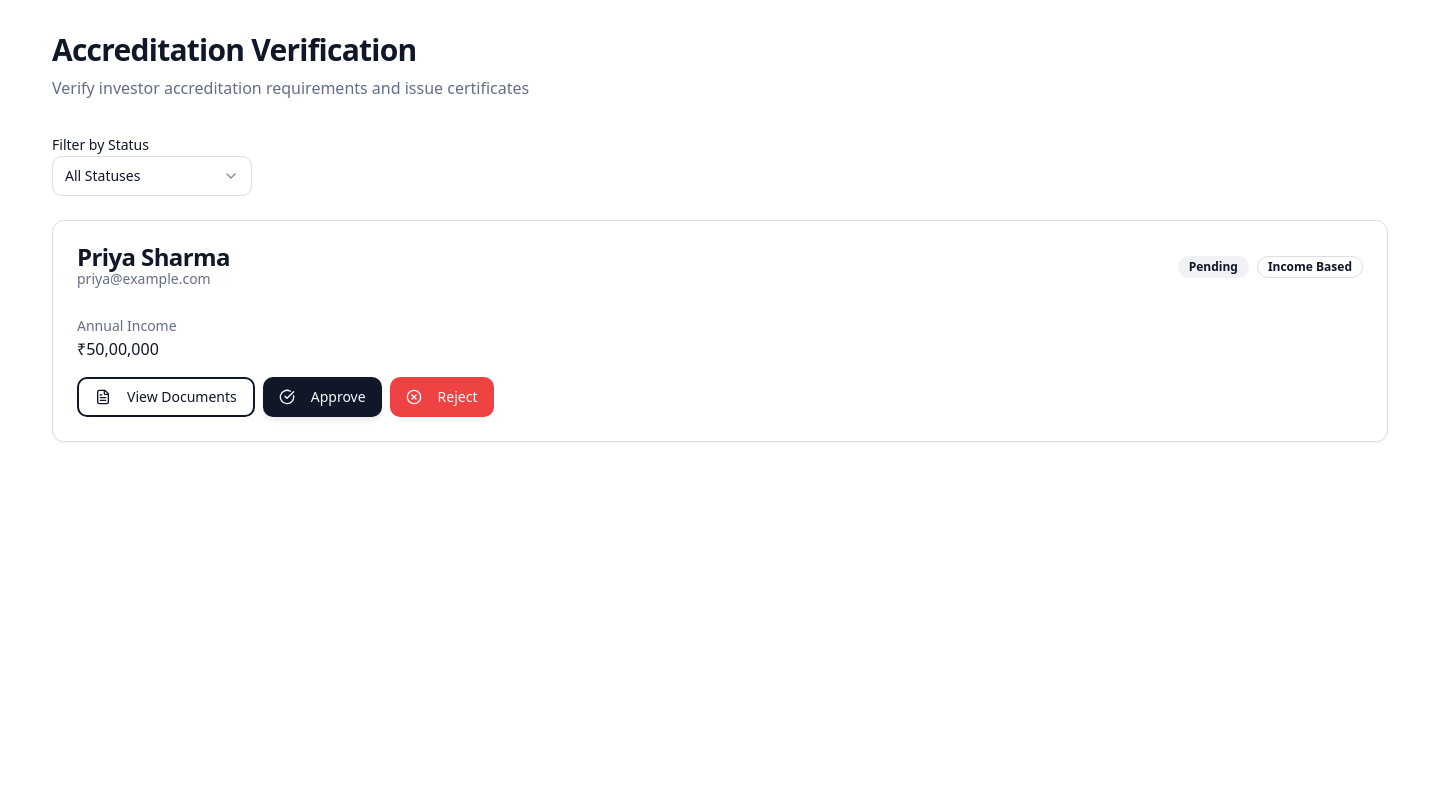
US-COMPLIANCE-003: Verify Accredited Investor Status › View Documents › should allow viewing application documents
Expected: the text "Priya Sharma" is shown, [77,245,230,269]
// Click the View Documents button
Click the button "View Documents" at (166, 397), box [77,377,255,417]
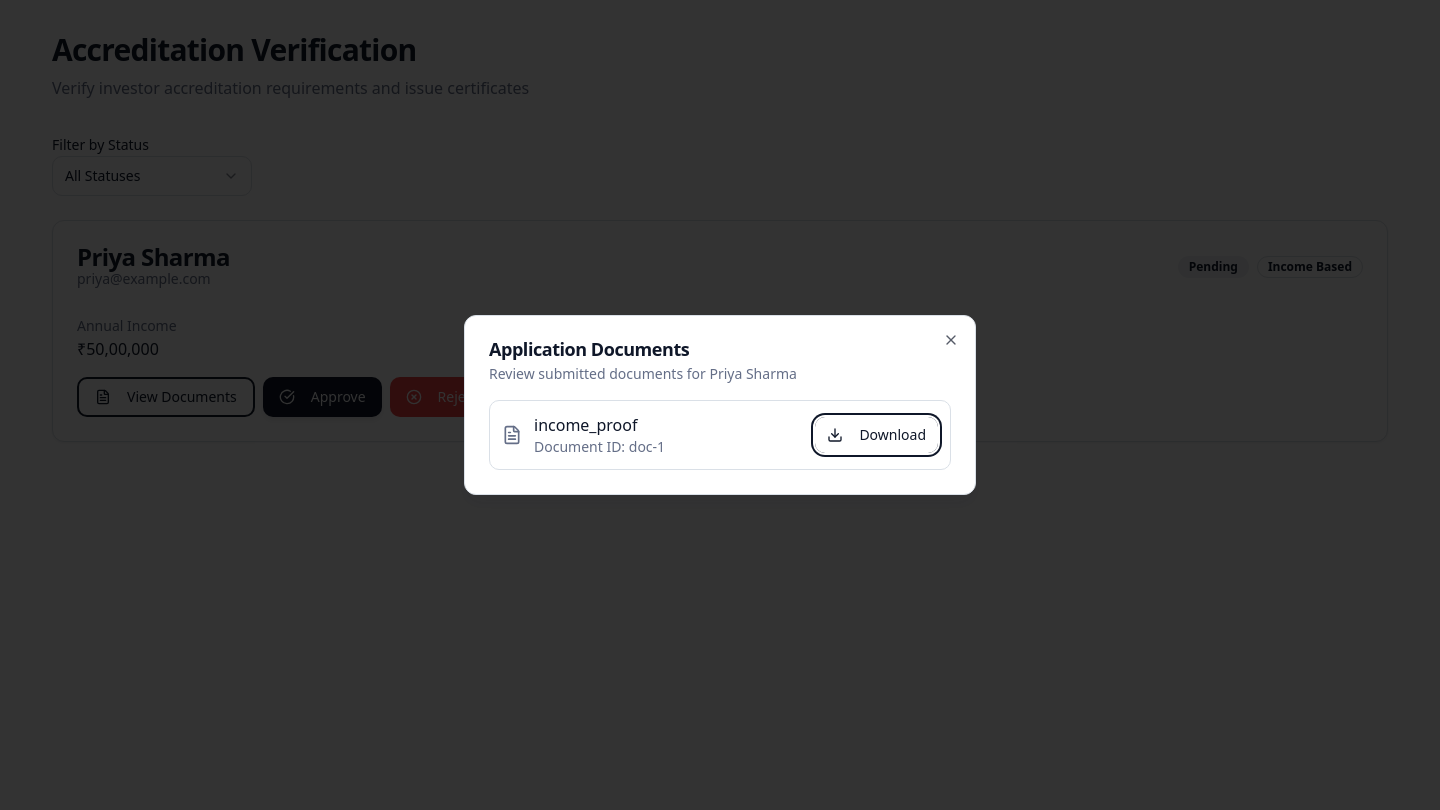
Expected: the heading "Application Documents" is shown, [489,337,689,361]
Expected: the text "income_proof" is shown, [534,414,638,436]
